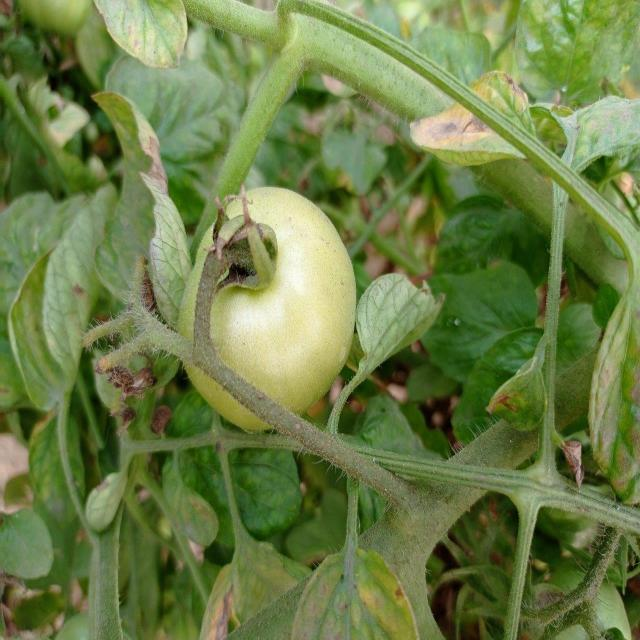Unripe: (173, 186, 355, 433)
